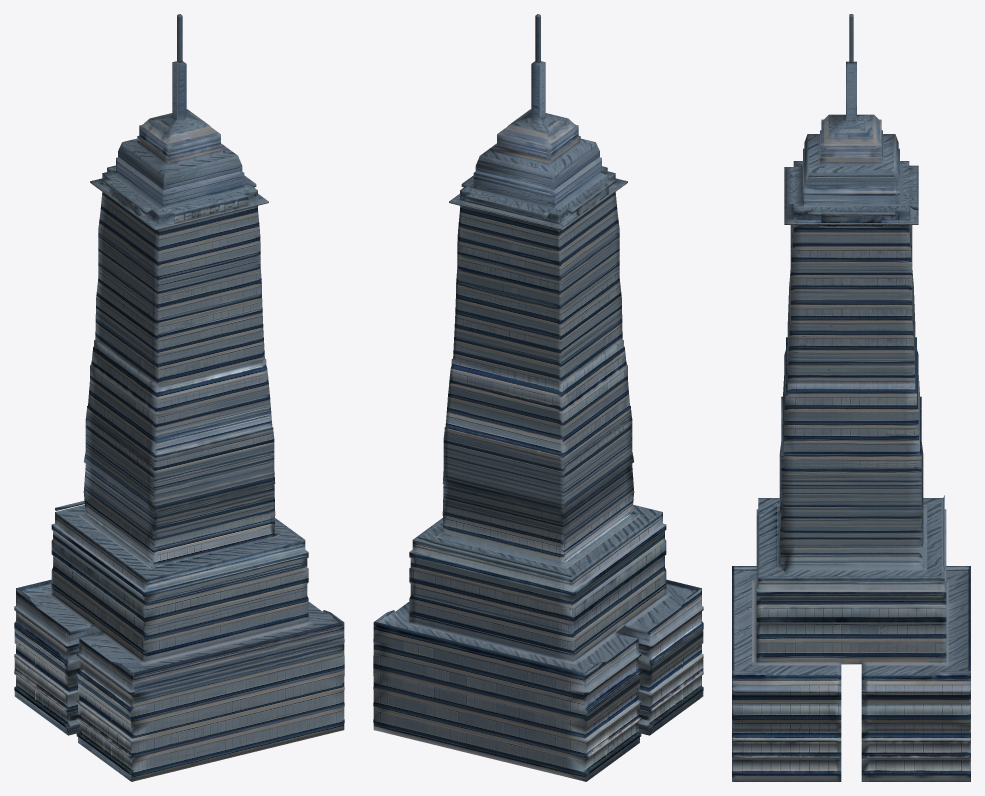
The model's file is tripo_convert_1aa6b48b-423f-4096-af6d-6cd428cd36e6.fbx.
The picture shows the model from 3 angles, left to right: view 1: azimuth 30°, elevation 25°; view 2: azimuth 150°, elevation 25°; view 3: azimuth 270°, elevation 25°; orthographic projection. The views are drawn at different scales.
Visible parts, largest first — view 1: tripo_node_1aa6b48b; view 2: tripo_node_1aa6b48b; view 3: tripo_node_1aa6b48b.
Part boxes in pixels (left/top/right/bottom): tripo_node_1aa6b48b: left=14, top=14, right=344, bottom=781; tripo_node_1aa6b48b: left=373, top=14, right=703, bottom=781; tripo_node_1aa6b48b: left=732, top=14, right=970, bottom=781.
Size of the model in its own units: 0.3228 by 0.9998 by 0.3033.
